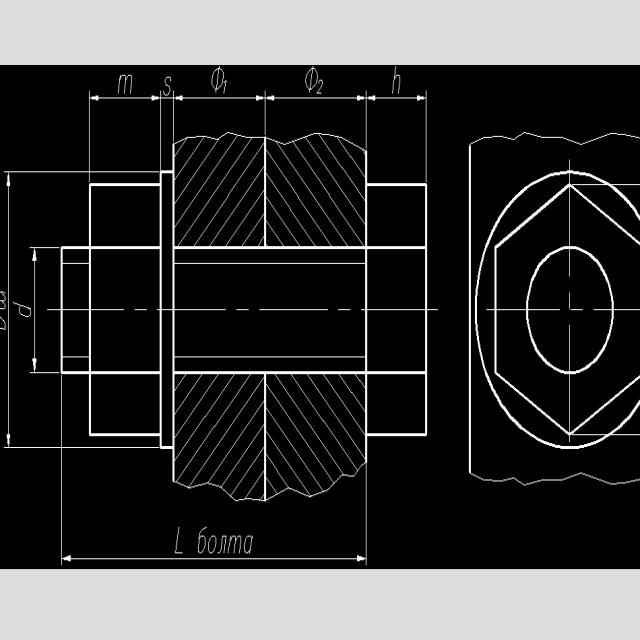marking_line: (60, 553, 367, 566), (2, 172, 14, 449), (265, 91, 362, 106), (29, 246, 37, 376), (175, 93, 264, 103), (367, 90, 425, 104), (90, 94, 159, 105)
